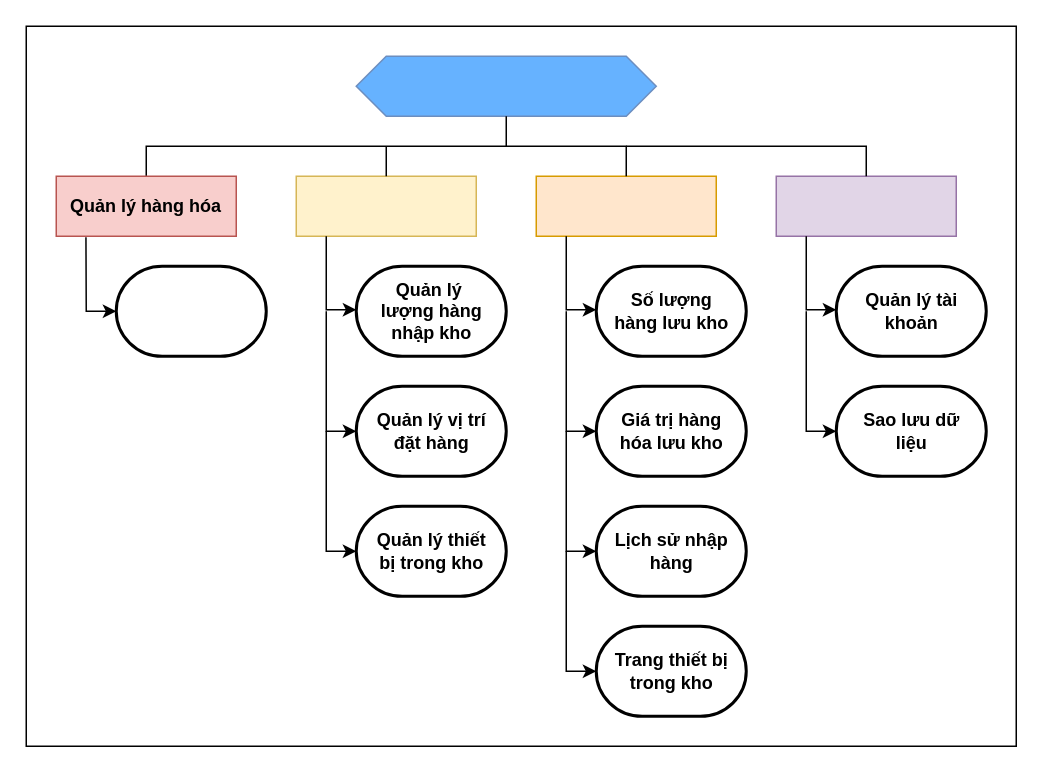
Image size: 1043x773. Some labels were removed from this diagram. Here are the shapes that lost their labels. From the top down, the box of each, then its label:
(355, 55, 656, 116): PHẦN MỀM QUẢN LÝ KHO
(295, 175, 476, 236): Quản lý kho
(535, 175, 716, 236): Thống kê
(775, 175, 956, 236): Quản lý hệ thống
(114, 264, 267, 357): Quản lý loại hàng hóa
